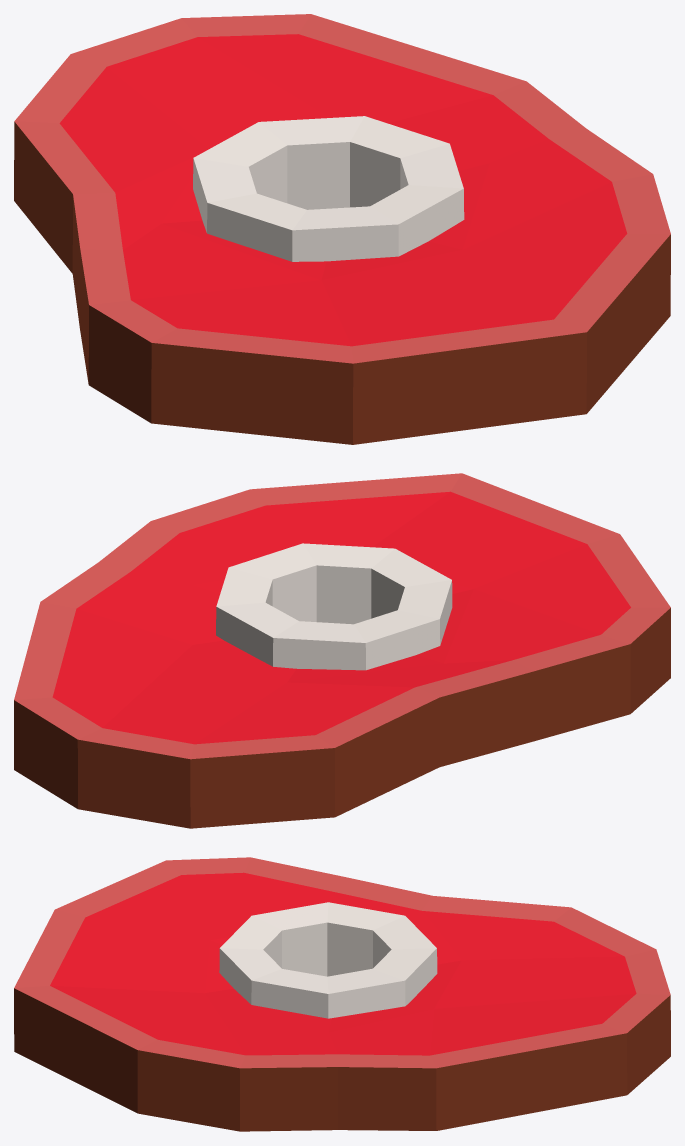
Rendered from meat1.fbx.
3 views of the same model, one above another, from view 1: azimuth 30°, elevation 25°; view 2: azimuth 150°, elevation 25°; view 3: azimuth 270°, elevation 25° (orthographic). The views are drawn at different scales.
Visible parts, largest first — view 1: meat1; view 2: meat1; view 3: meat1.
Part boxes in pixels (box(x1,y1,x2,y2)): meat1: box(14, 14, 670, 444); meat1: box(14, 473, 670, 828); meat1: box(14, 857, 670, 1131).
Size of the model in its own units: 176 by 35.16 by 232.
